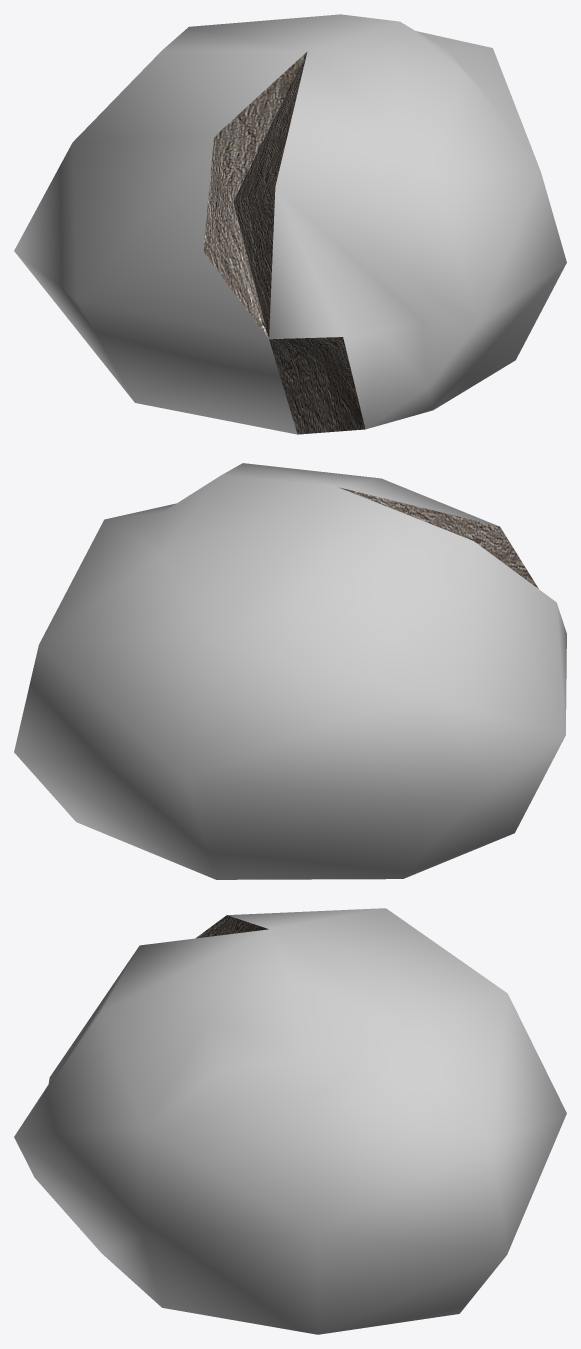
File: small_boulder02.fbx
3 renders of one model, top to bottom at view 1: azimuth 30°, elevation 25°; view 2: azimuth 150°, elevation 25°; view 3: azimuth 270°, elevation 25°, orthographic.
Parts seen in each view (by area): view 1: mesh_0, mesh_1; view 2: mesh_0, mesh_1; view 3: mesh_0, mesh_1.
Boxes of the visible parts, x1,y1,x2,y2 form: mesh_0: (14, 14, 566, 434); mesh_1: (203, 52, 365, 434); mesh_0: (14, 463, 566, 879); mesh_1: (339, 487, 538, 588); mesh_0: (14, 908, 566, 1334); mesh_1: (195, 915, 268, 938).
Bounding box in the file's own units: 167 × 102 × 168.
